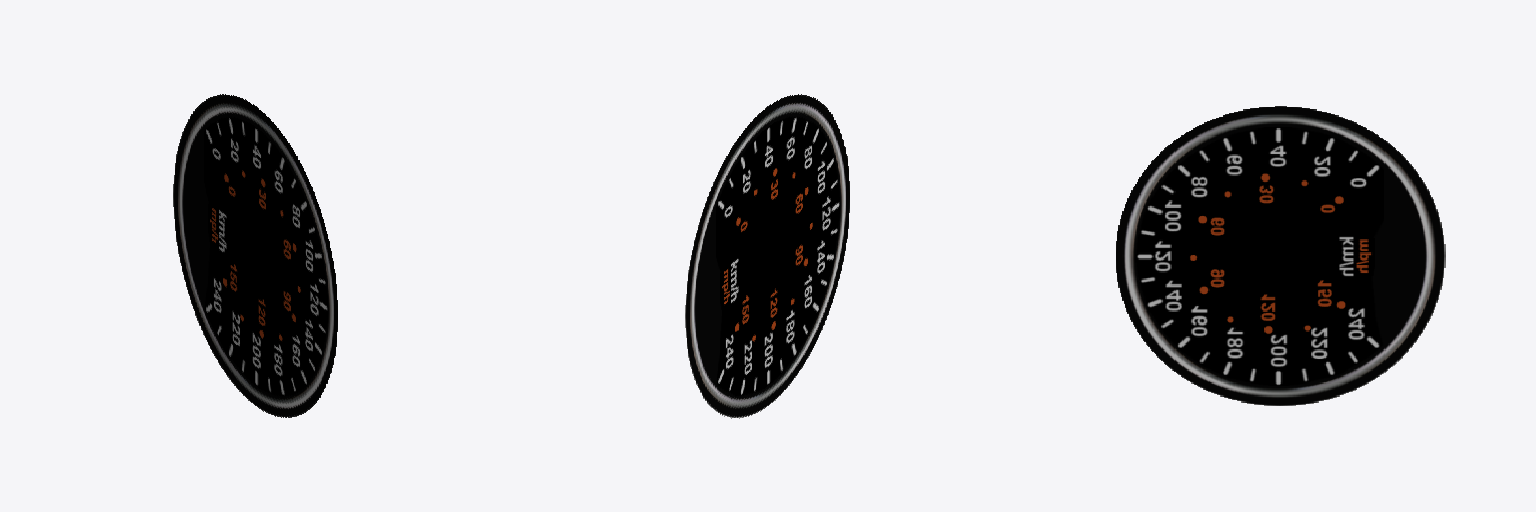
3 renders of one model, left to right at view 1: azimuth 30°, elevation 25°; view 2: azimuth 150°, elevation 25°; view 3: azimuth 270°, elevation 25°, orthographic.
Visible parts, largest first — view 1: 1_-_Default; view 2: 1_-_Default; view 3: 1_-_Default.
Boxes of the visible parts, x1,y1,x2,y2 form: 1_-_Default: [173, 94, 337, 417]; 1_-_Default: [685, 94, 849, 418]; 1_-_Default: [1116, 106, 1445, 405].
Size of the model in its own units: 0 by 0.1 by 0.1.
1 materials, 1 textured.